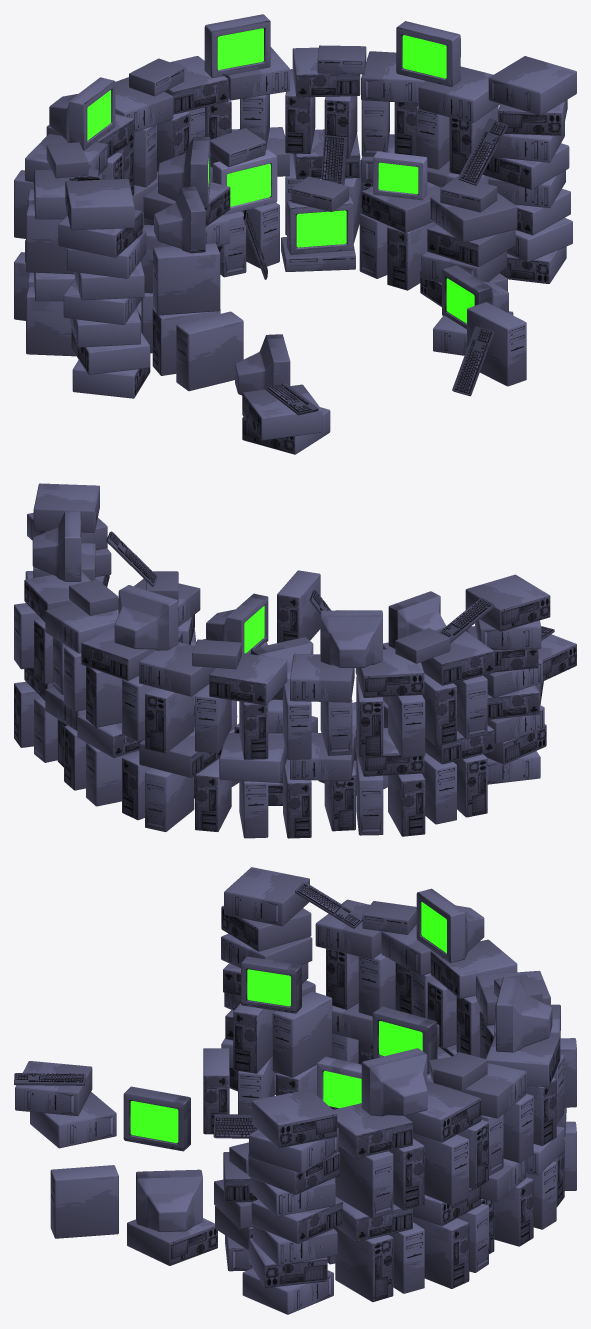
Rendered from Old Computers.glb.
3 renders of one model, top to bottom at view 1: azimuth 30°, elevation 25°; view 2: azimuth 150°, elevation 25°; view 3: azimuth 270°, elevation 25°, orthographic. The views are drawn at different scales.
Visible parts, largest first — view 1: PC 01.011, PC 01.010, PC 02.026, Screen D.003, Screen D.004, PC 01.055, PC 02.012, Screen D.002, Screen D.001, PC 02.035, PC 01.052, Screen C.001 (+72 smaller); view 2: Screen D.003, Screen D.002, PC 02.012, PC 01.032, PC 02.021, Screen D.004, PC 01.031, PC 02.026, PC 01.033, PC 02.016, PC 01.055, Screen B.004 (+59 smaller); view 3: PC 01.055, PC 01.005, Screen D.004, Screen B.004, PC 02.026, Screen B.003, PC 02.012, Screen D.002, PC 02.027, PC 02.032, Screen D.003, Screen B.002 (+61 smaller).
Boxes of the visible parts, left/top/right/bottom form: PC 01.011: left=176, top=311, right=243, bottom=391; PC 01.010: left=153, top=243, right=220, bottom=315; PC 02.026: left=488, top=56, right=576, bottom=115; Screen D.003: left=204, top=14, right=270, bottom=77; Screen D.004: left=396, top=21, right=460, bottom=86; PC 01.055: left=467, top=302, right=526, bottom=386; PC 02.012: left=65, top=179, right=134, bottom=230; Screen D.002: left=49, top=77, right=115, bottom=150; Screen D.001: left=287, top=196, right=353, bottom=254; PC 02.035: left=242, top=384, right=322, bottom=440; PC 01.052: left=418, top=66, right=499, bottom=123; Screen C.001: left=212, top=149, right=277, bottom=215; Screen D.003: left=114, top=585, right=178, bottom=650; Screen D.002: left=320, top=610, right=382, bottom=667; PC 02.012: left=465, top=574, right=550, bottom=631; PC 01.032: left=209, top=652, right=287, bottom=705; PC 02.021: left=145, top=687, right=194, bottom=753; Screen D.004: left=32, top=511, right=81, bottom=581; PC 01.031: left=290, top=653, right=354, bottom=702; PC 02.026: left=33, top=483, right=99, bottom=532; PC 01.033: left=139, top=642, right=214, bottom=696; PC 02.016: left=145, top=768, right=194, bottom=831; PC 01.055: left=277, top=570, right=320, bottom=642; Screen B.004: left=206, top=593, right=268, bottom=653; PC 01.055: left=50, top=1165, right=118, bottom=1238; PC 01.005: left=272, top=991, right=332, bottom=1077; Screen D.004: left=361, top=1048, right=427, bottom=1116; Screen B.004: left=136, top=1169, right=202, bottom=1232; PC 02.026: left=251, top=1089, right=337, bottom=1148; Screen B.003: left=123, top=1086, right=190, bottom=1151; PC 02.012: left=224, top=867, right=309, bottom=926; Screen D.002: left=416, top=888, right=484, bottom=962; PC 02.027: left=335, top=1227, right=393, bottom=1301; PC 02.032: left=335, top=1146, right=393, bottom=1218; Screen D.003: left=496, top=977, right=552, bottom=1052; Screen B.002: left=241, top=956, right=301, bottom=1013.
Bounding box in the file's own units: 14.29 × 5.69 × 13.08.
Materials: 8 (6 with a texture image).
